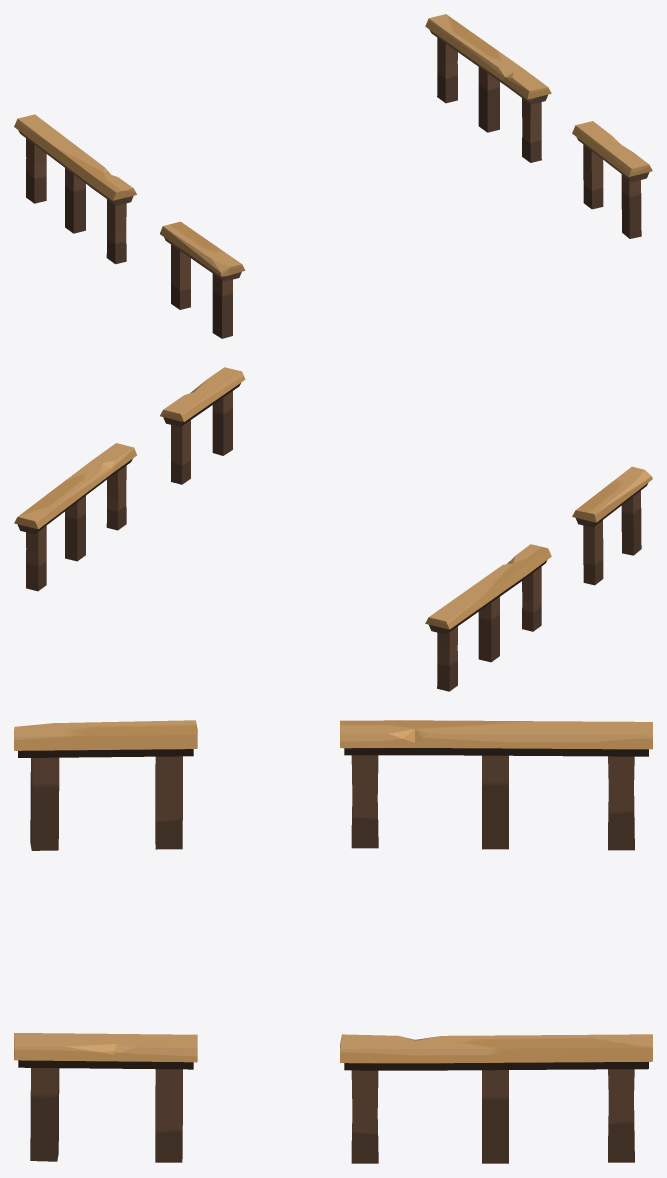
Rendered from SM_Veh_Ship_M_Middle_02.fbx.
3 views of the same model, one above another, from view 1: azimuth 30°, elevation 25°; view 2: azimuth 150°, elevation 25°; view 3: azimuth 270°, elevation 25° (orthographic). The views are drawn at different scales.
Parts seen in each view (by area): view 1: SM_Veh_Ship_M_Middle_02; view 2: SM_Veh_Ship_M_Middle_02; view 3: SM_Veh_Ship_M_Middle_02.
Part boxes in pixels (left/top/right/bottom): SM_Veh_Ship_M_Middle_02: left=14, top=14, right=652, bottom=338; SM_Veh_Ship_M_Middle_02: left=14, top=367, right=652, bottom=691; SM_Veh_Ship_M_Middle_02: left=14, top=720, right=652, bottom=1163.
Bounding box in the file's own units: 700 × 115 × 566.
